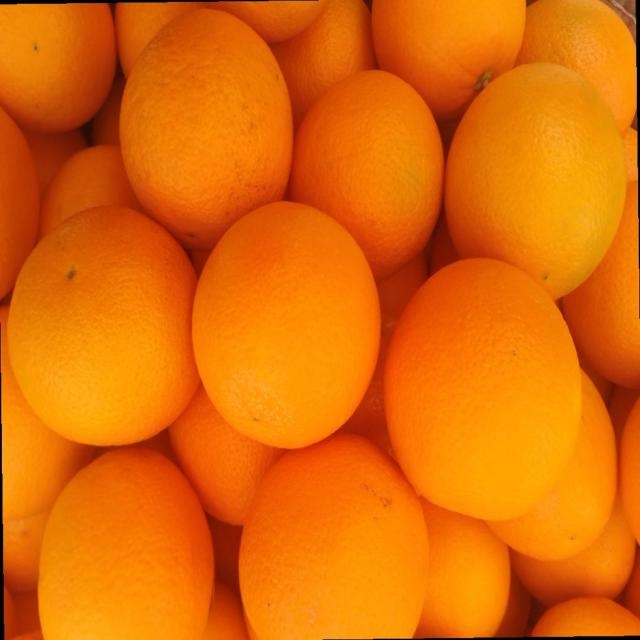agrume: (162, 192, 403, 469), (385, 258, 581, 518), (8, 205, 202, 448), (444, 64, 627, 299), (118, 8, 295, 250), (242, 435, 430, 637), (38, 447, 210, 637), (289, 69, 444, 278), (372, 1, 526, 121), (562, 165, 639, 384), (169, 385, 283, 527), (515, 1, 636, 131), (0, 4, 114, 130), (411, 505, 518, 637), (272, 0, 377, 126), (40, 144, 140, 240)
